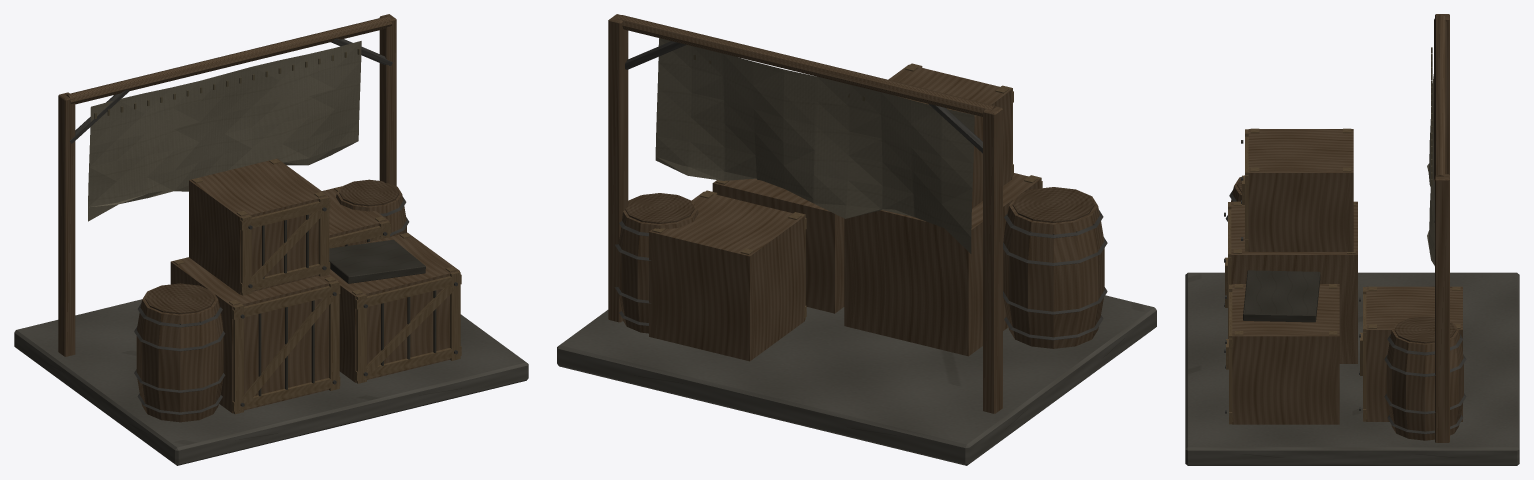
The model's file is env_crate_stack.fbx.
The picture shows the model from 3 angles, left to right: view 1: azimuth 30°, elevation 25°; view 2: azimuth 150°, elevation 25°; view 3: azimuth 270°, elevation 25°; orthographic projection. The views are drawn at different scales.
Visible parts, largest first — view 1: env_crate_stack; view 2: env_crate_stack; view 3: env_crate_stack.
Boxes of the visible parts, x1,y1,x2,y2 form: env_crate_stack: [14, 14, 528, 465]; env_crate_stack: [557, 14, 1156, 465]; env_crate_stack: [1185, 14, 1519, 465].
Size of the model in its own units: 200 by 160 by 150.
1 material, 1 textured.
